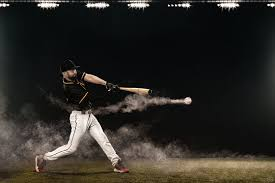baseball bat: (115, 87, 154, 95)
